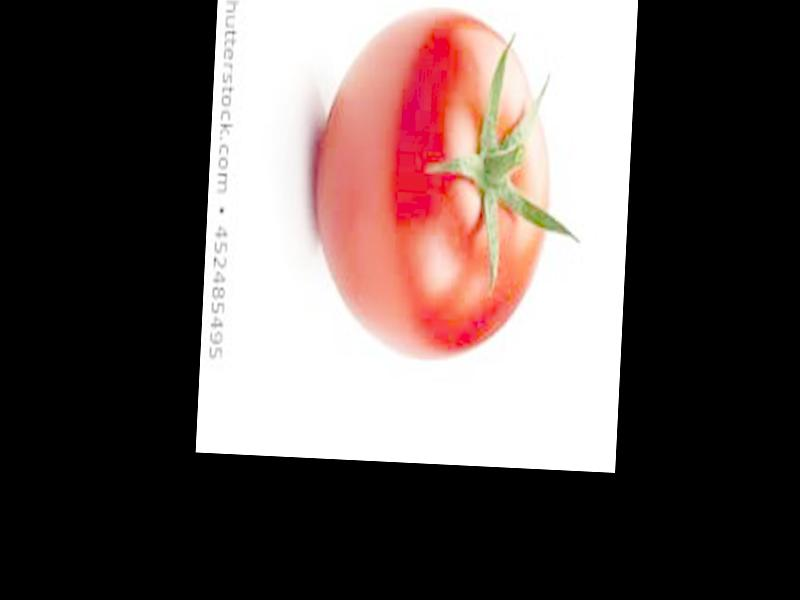Tomato: (306, 7, 557, 360)
